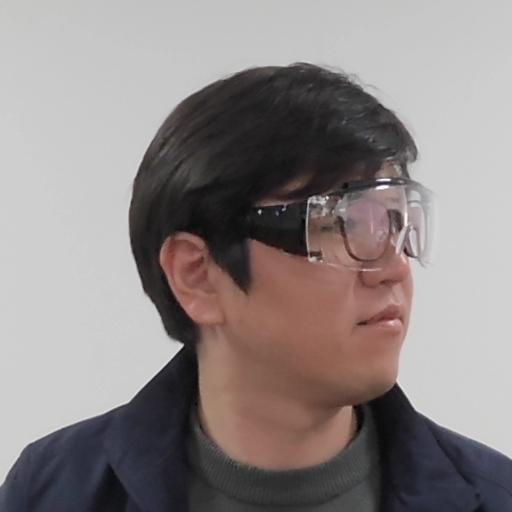glasses: (122, 69, 433, 412)
